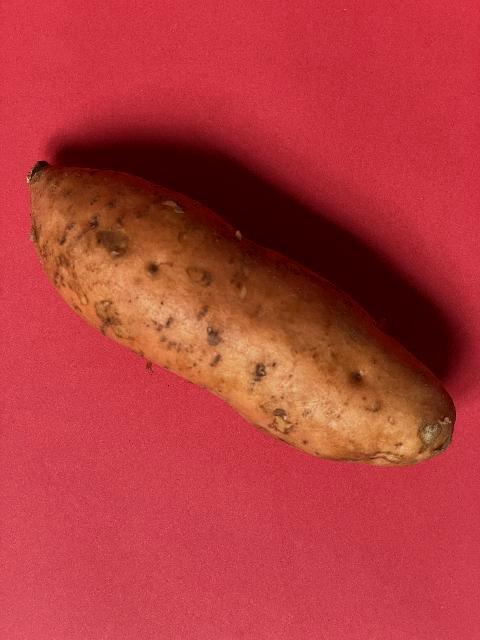sweetpotato: (27, 158, 456, 468)
